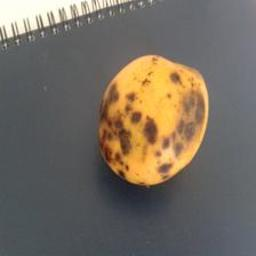Mango Rotten: (88, 55, 215, 191)
